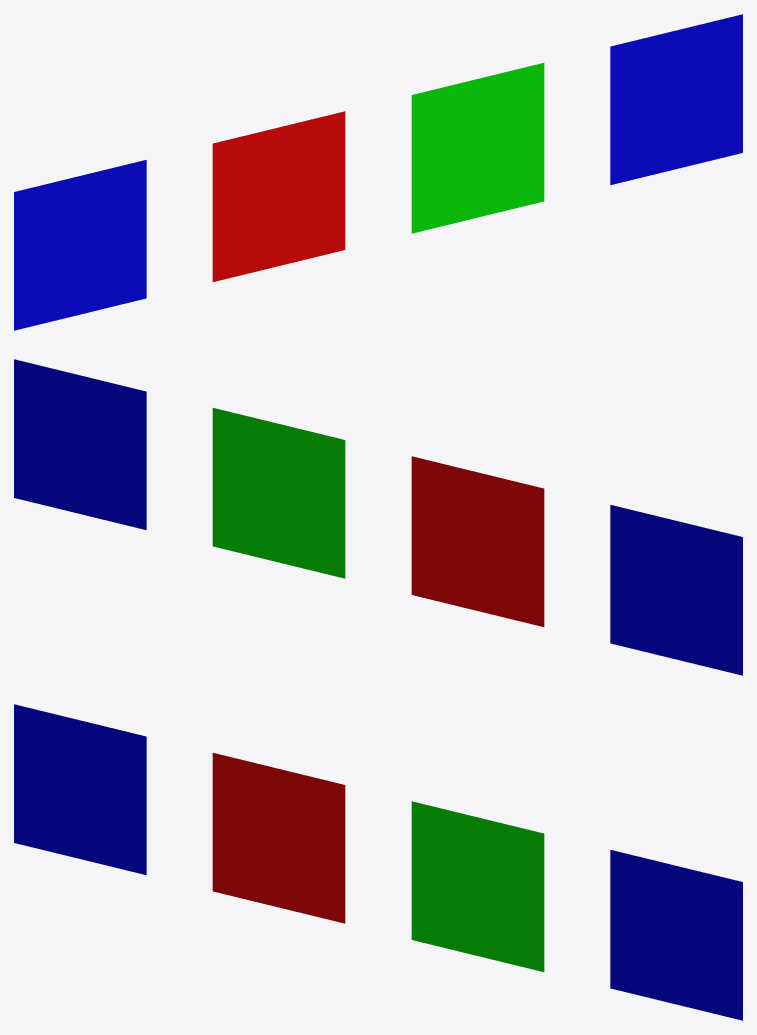
File: FirstUseNone.fbx
3 views of the same model, one above another, from view 1: azimuth 30°, elevation 25°; view 2: azimuth 150°, elevation 25°; view 3: azimuth 330°, elevation 25° (orthographic).
Parts seen in each view (by area): view 1: Panels0; view 2: Panels0; view 3: Panels0.
Boxes of the visible parts, <box> form: Panels0: <box>14,14,742,330</box>; Panels0: <box>14,359,742,675</box>; Panels0: <box>14,704,742,1020</box>.
Bounding box in the file's own units: 5.5 × 1 × 0.
